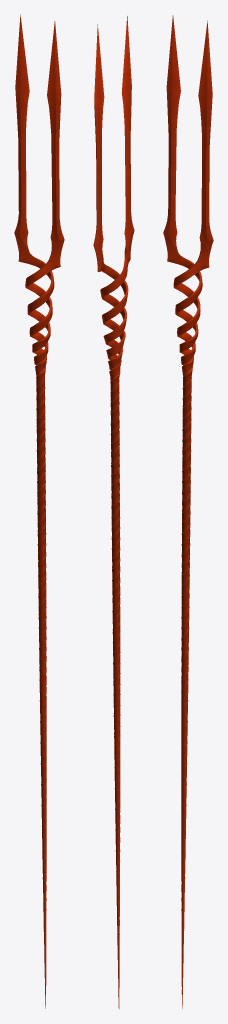
The model's file is longinus.glb.
The picture shows the model from 3 angles, left to right: view 1: azimuth 90°, elevation 25°; view 2: azimuth 150°, elevation 25°; view 3: azimuth 270°, elevation 25°; orthographic projection.
Parts seen in each view (by area): view 1: DefaultCube.011_Material_0; view 2: DefaultCube.011_Material_0; view 3: DefaultCube.011_Material_0.
Part boxes in pixels (bbox=[...]): DefaultCube.011_Material_0: bbox=[14, 14, 64, 1008]; DefaultCube.011_Material_0: bbox=[93, 16, 134, 1008]; DefaultCube.011_Material_0: bbox=[163, 15, 213, 1008].
Bounding box in the file's own units: 0.0813 × 3.17 × 0.1459.
Materials: 1 (1 with a texture image).
